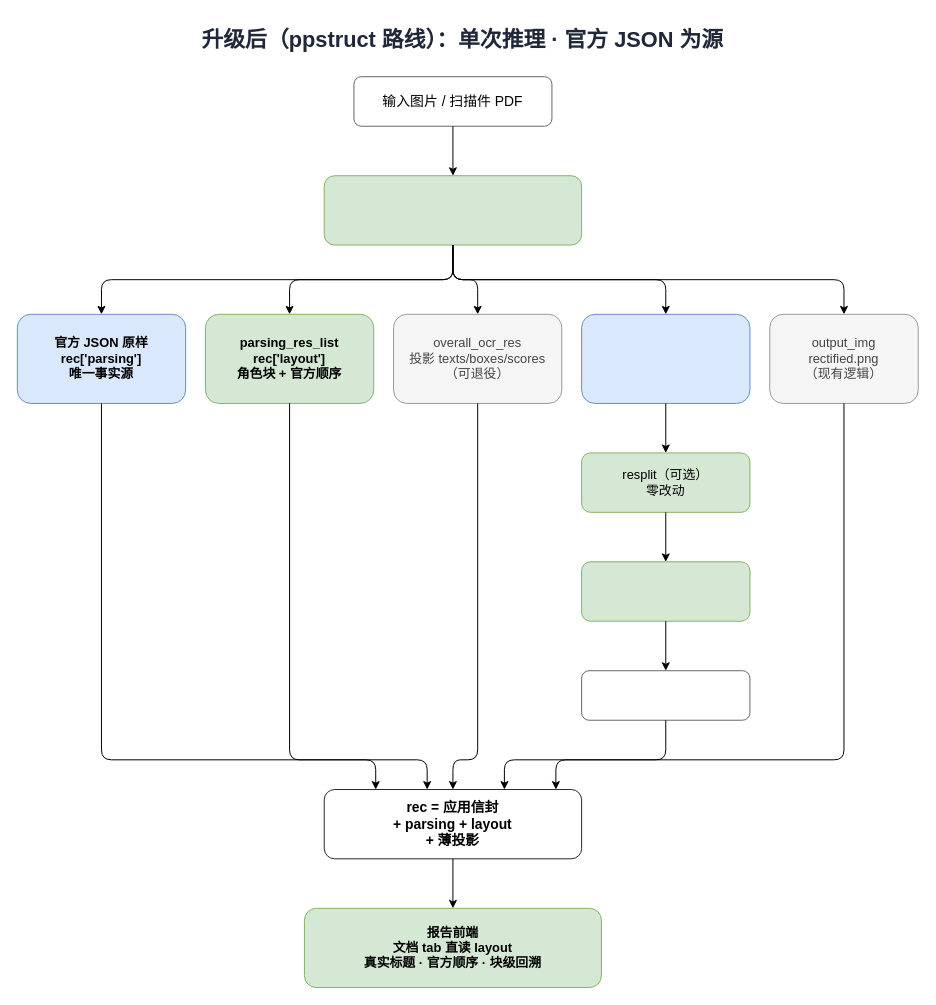
This 936x1005 diagram has some shape labels left out. Here are the shapes that lost their labels. From the top down, the centre of each, then its label:
At point (452, 210): "PPStructureV3 单次推理".
At point (665, 358): "table_res_list _TableParser（复用） HTML → 网格".
At point (665, 591): "structure.py 零改动".
At point (665, 695): "structured_tables".
